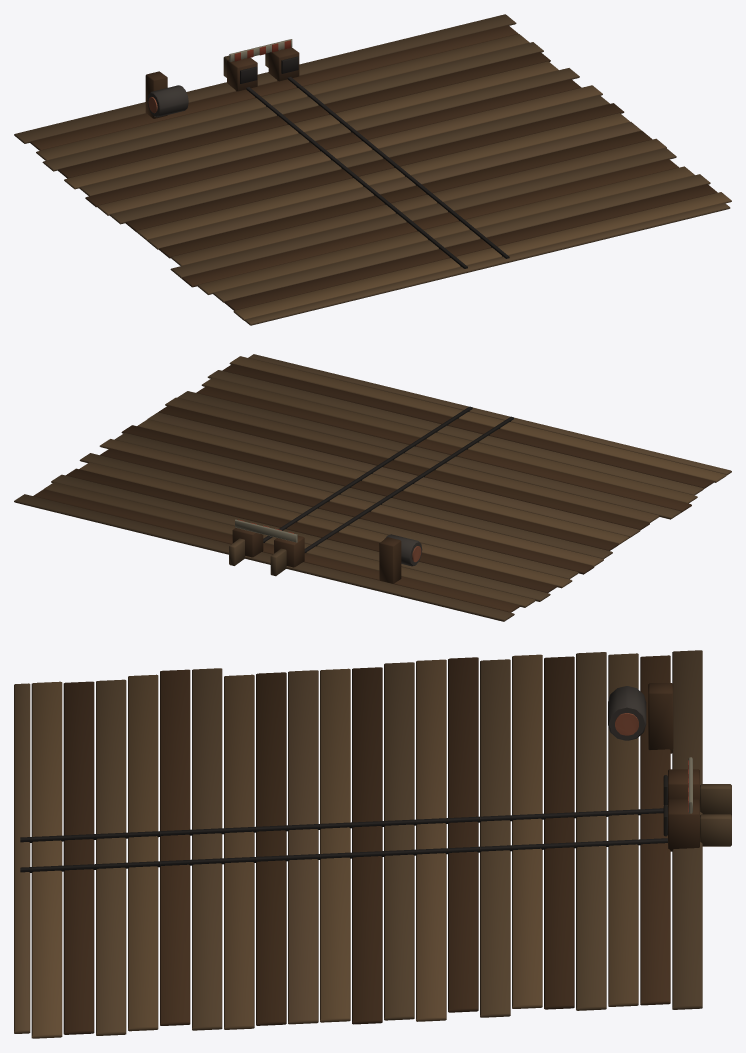
The model's file is isle_tram_head.glb.
The picture shows the model from 3 angles, top to bottom: view 1: azimuth 30°, elevation 25°; view 2: azimuth 150°, elevation 25°; view 3: azimuth 270°, elevation 25°; orthographic projection. The views are drawn at different scales.
Parts seen in each view (by area): view 1: isle_tram_head; view 2: isle_tram_head; view 3: isle_tram_head.
Part boxes in pixels (x1,y1,x2,y2): isle_tram_head: (14,14,731,325); isle_tram_head: (14,354,731,621); isle_tram_head: (14,650,731,1038).
Bounding box in the file's own units: 23.94 × 2.79 × 20.18.
